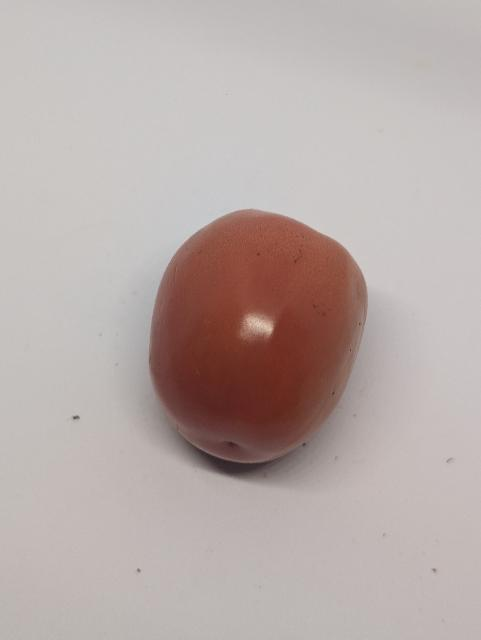red: (138, 200, 378, 477)
